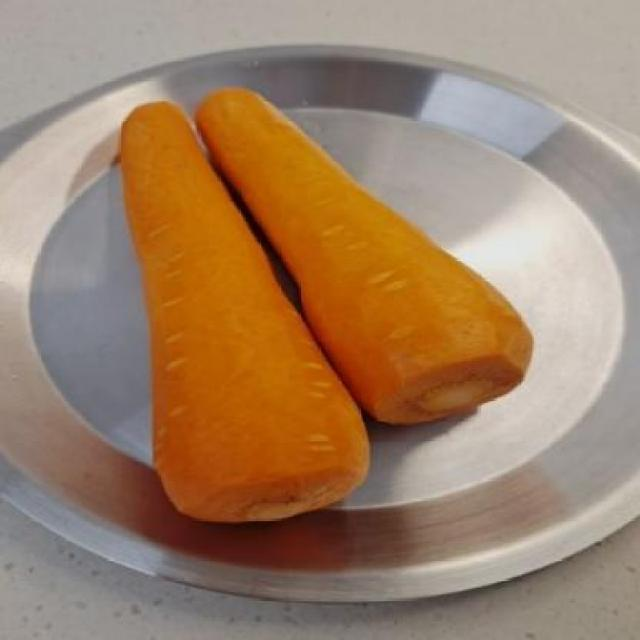carrot: (206, 79, 540, 427), (110, 100, 366, 529)
